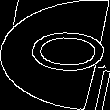O_E: (5, 30, 105, 80)
